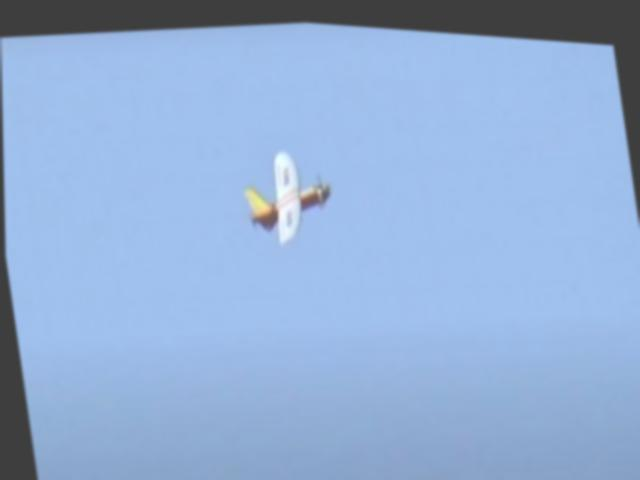iha: (223, 132, 339, 250)
